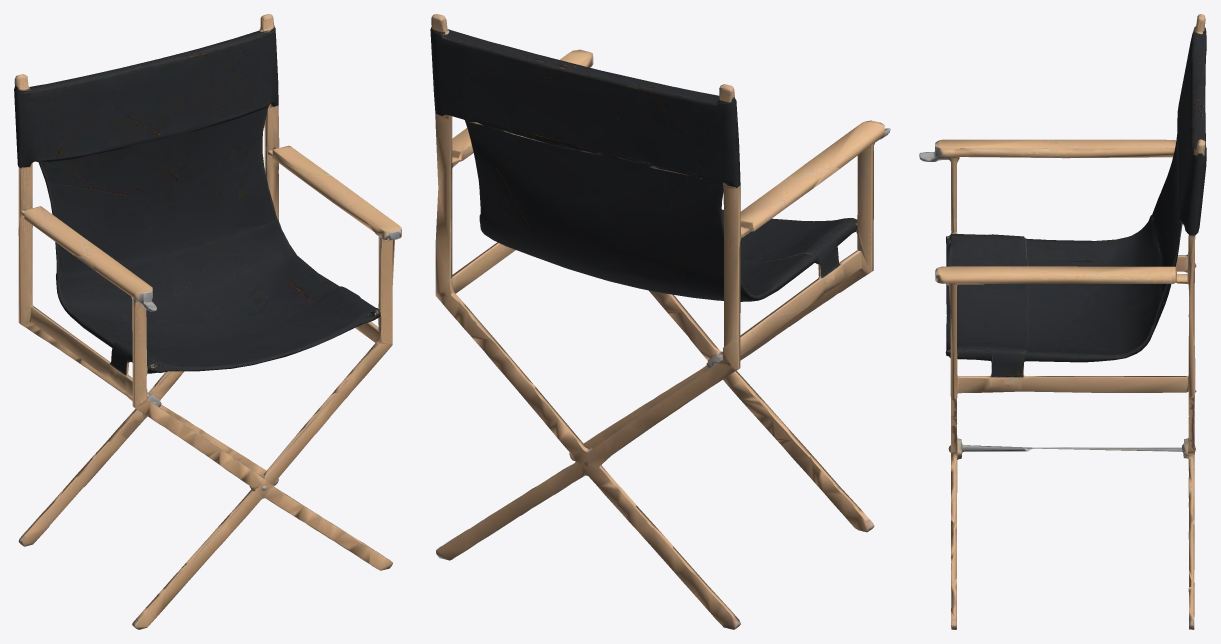
Rendered from bkChair.glb.
The picture shows the model from 3 angles, left to right: view 1: azimuth 30°, elevation 25°; view 2: azimuth 150°, elevation 25°; view 3: azimuth 270°, elevation 25°; orthographic projection. The views are drawn at different scales.
Bounding box in the file's own units: 1.14 × 1.9 × 1.01.
1 material, 1 textured.
